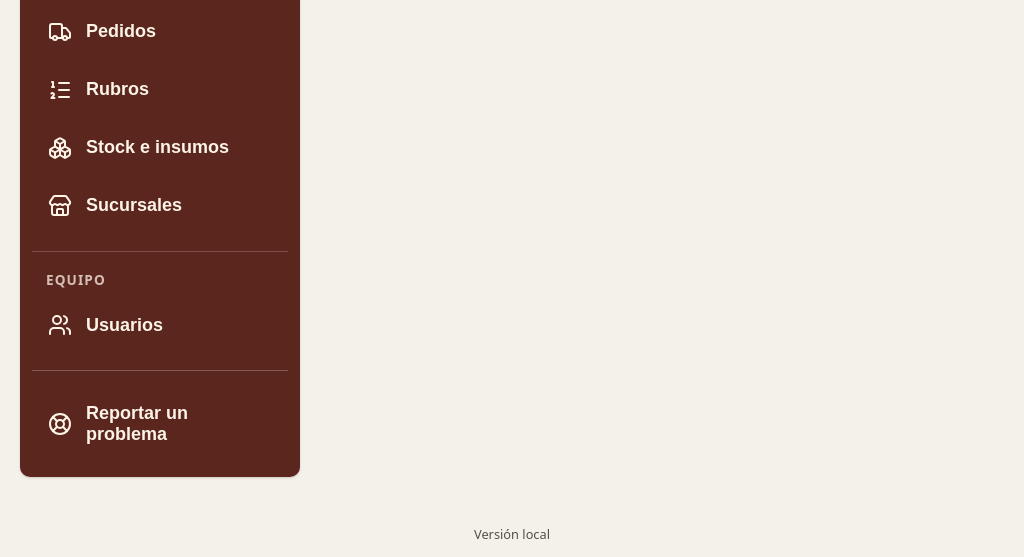
Test case: administración de usuarios › la dueña no puede cambiarse el rol ni desactivarse
The width and height of the screenshot is (1024, 557).
(page scrolled)
Click the button "Usuarios" at (160, 325), box 32,298 -> 288,352
(page scrolled)
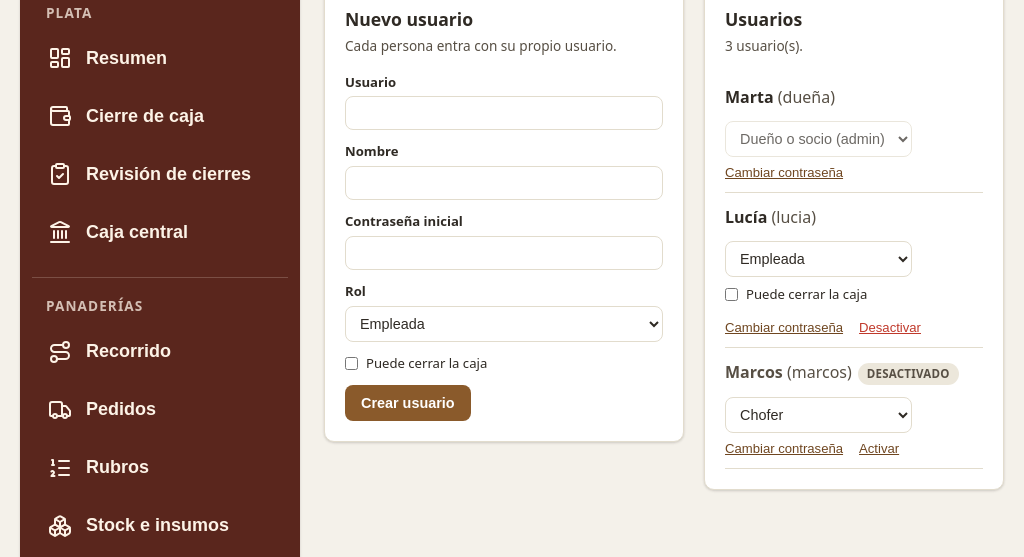
Check: the text "3 usuario(s)." is shown, box 725,36 -> 803,55
Check: the dropdown named "Rol de Marta" is disabled, box 725,121 -> 912,157
